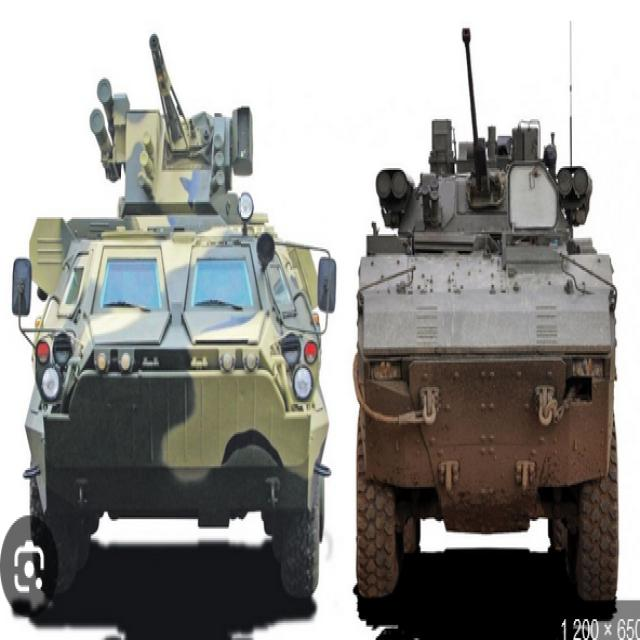MIL_APC: (13, 116, 345, 612), (346, 117, 625, 606)
